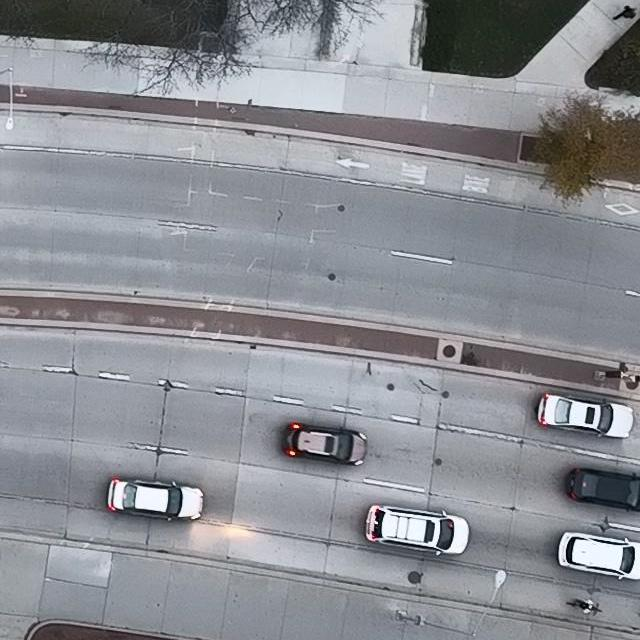car: (364, 504, 470, 557), (535, 392, 633, 440), (108, 478, 204, 522), (558, 532, 640, 580), (282, 422, 367, 465), (566, 467, 640, 511)
